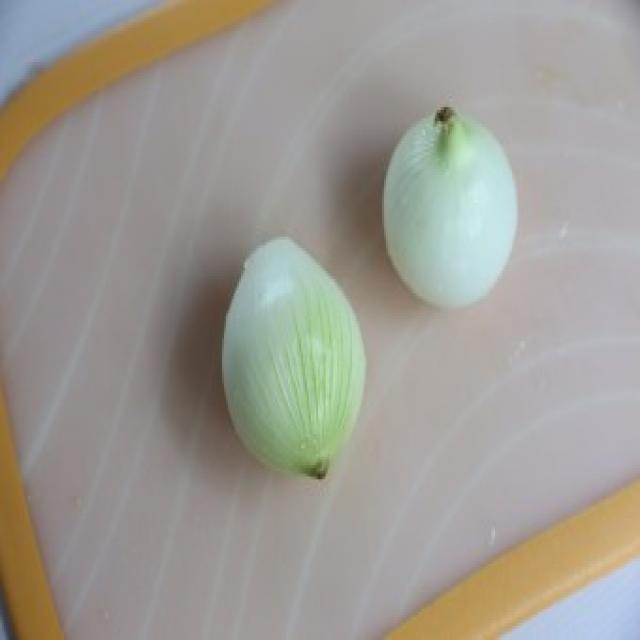onion: (214, 223, 373, 494), (382, 86, 524, 340)
